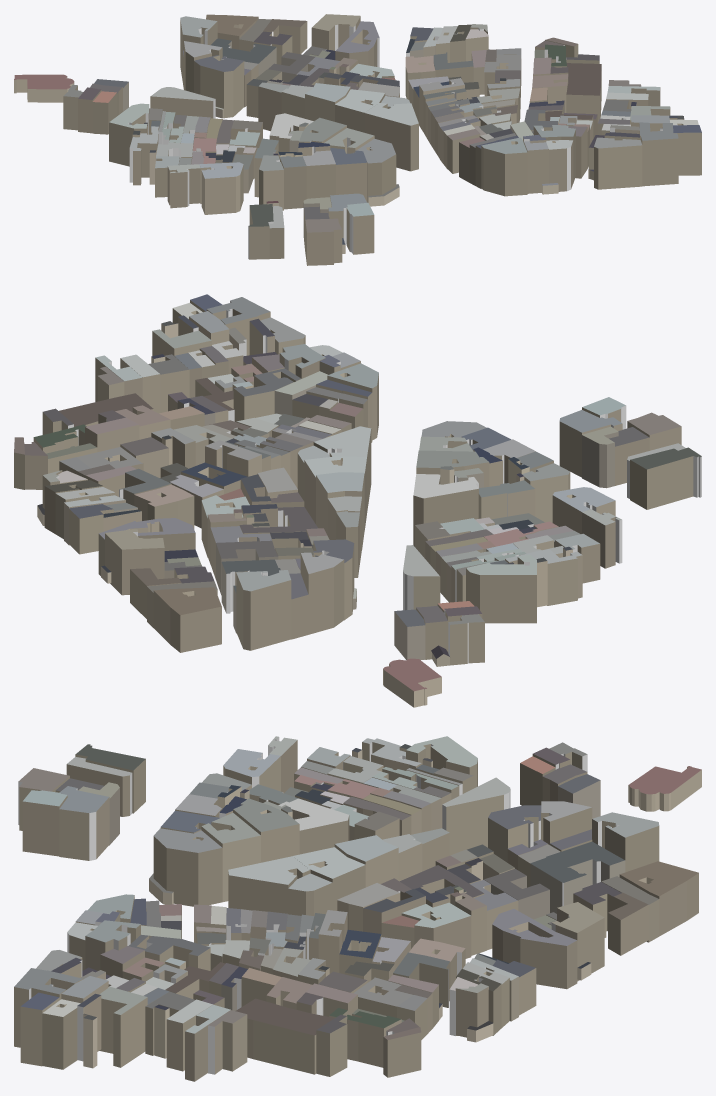
3 renders of one model, top to bottom at view 1: azimuth 30°, elevation 25°; view 2: azimuth 150°, elevation 25°; view 3: azimuth 270°, elevation 25°, orthographic. The views are drawn at different scales.
Parts seen in each view (by area): view 1: tuile; view 2: tuile; view 3: tuile.
Part boxes in pixels (x1=…): tuile: x1=14, y1=14, x2=701, y2=265; tuile: x1=14, y1=294, x2=701, y2=707; tuile: x1=14, y1=736, x2=701, y2=1081.
Bounding box in the file's own units: 268 × 29.01 × 264.
